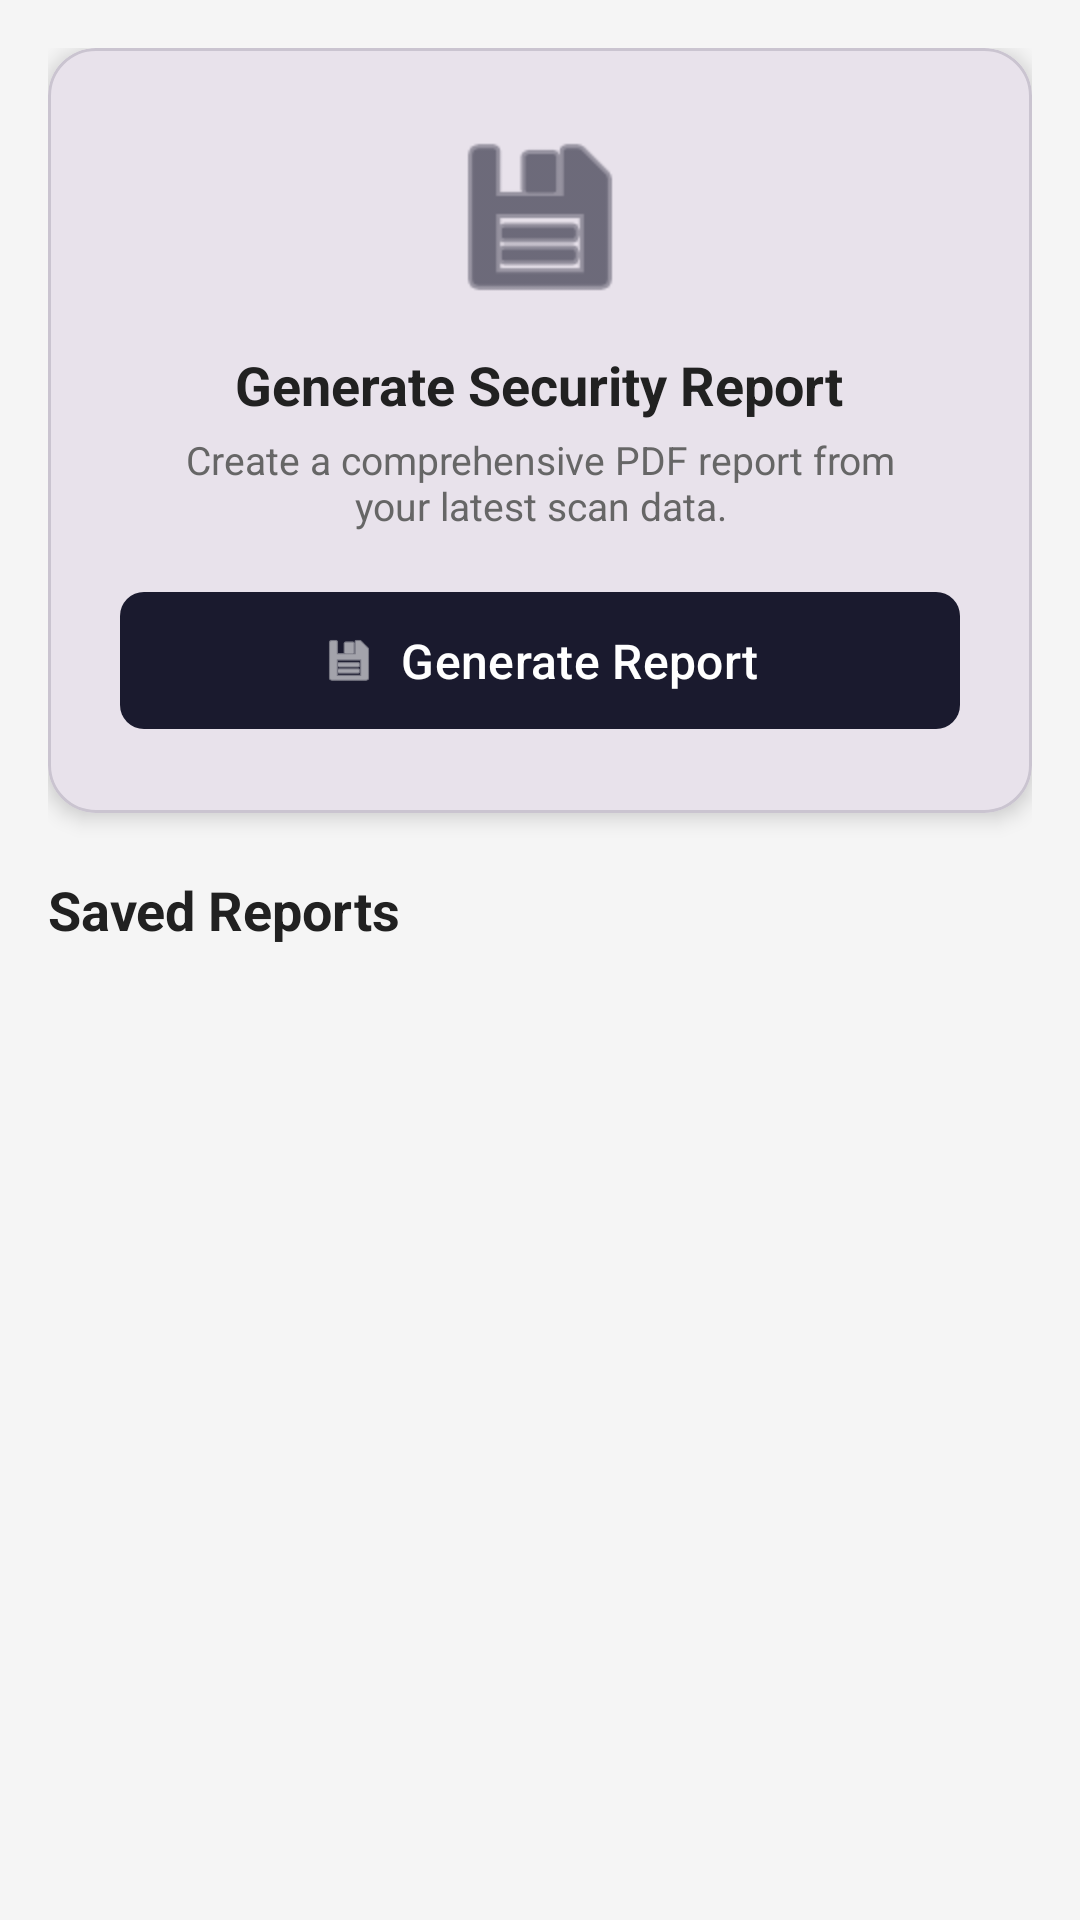

Screen size 1080 × 1920. Icon name, then its center in pixels as [x,y]:
save: [540,217]
